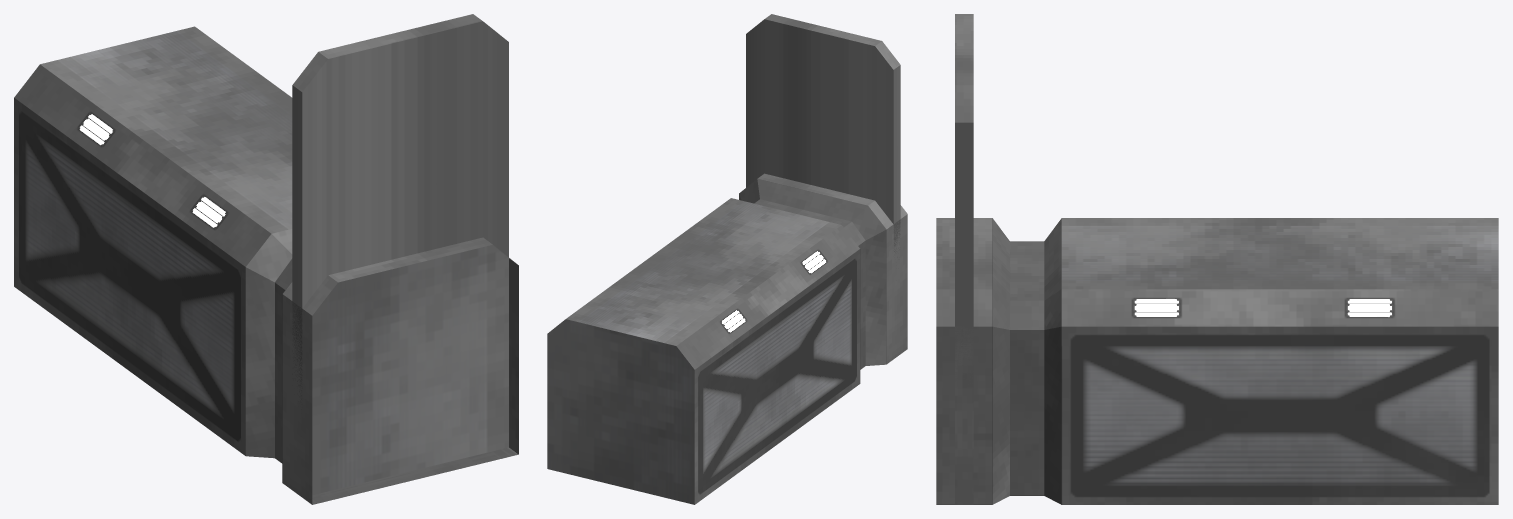
File: hallway_square_closed_tex.fbx
3 views of the same model, side by side, from view 1: azimuth 30°, elevation 25°; view 2: azimuth 150°, elevation 25°; view 3: azimuth 270°, elevation 25° (orthographic). The views are drawn at different scales.
Visible parts, largest first — view 1: hallway_square.002; view 2: hallway_square.002; view 3: hallway_square.002.
Boxes of the visible parts, x1=… form: hallway_square.002: x1=14, y1=14, x2=518, y2=504; hallway_square.002: x1=547, y1=14, x2=907, y2=504; hallway_square.002: x1=936, y1=14, x2=1498, y2=504.
Size of the model in its own units: 400 by 810 by 1000.
Materials: 1 (1 with a texture image).
